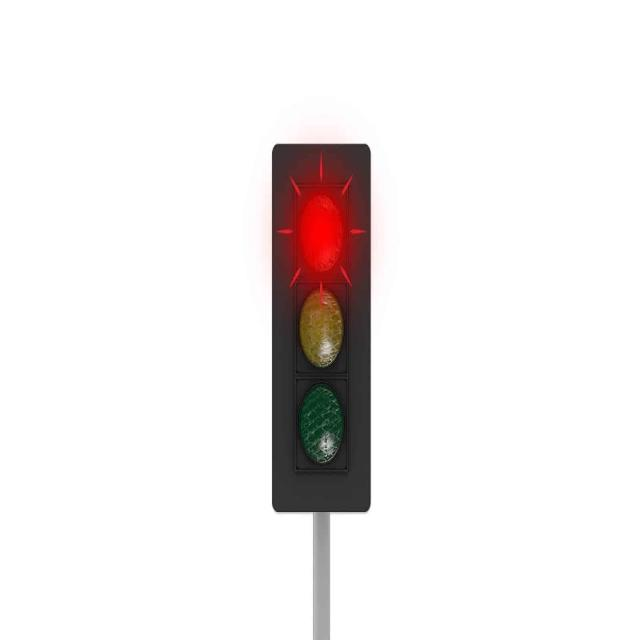red: (292, 182, 348, 276)
